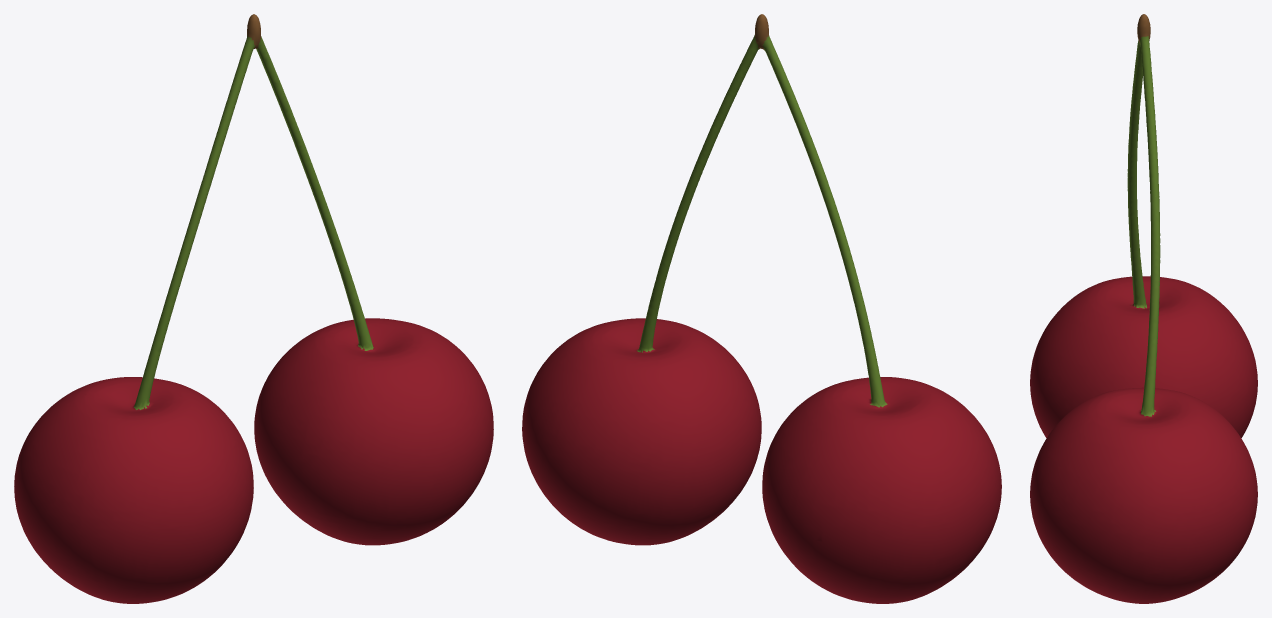
The picture shows the model from 3 angles, left to right: view 1: azimuth 30°, elevation 25°; view 2: azimuth 150°, elevation 25°; view 3: azimuth 270°, elevation 25°; orthographic projection. The views are drawn at different scales.
Visible parts, largest first — view 1: Complete joined-stem cherry pair; view 2: Complete joined-stem cherry pair; view 3: Complete joined-stem cherry pair.
Part boxes in pixels (box(x1,y1,x2,y2)): Complete joined-stem cherry pair: box(14, 14, 493, 603); Complete joined-stem cherry pair: box(522, 14, 1001, 603); Complete joined-stem cherry pair: box(1030, 14, 1257, 603).
Size of the model in its own units: 0.0634 by 0.0743 by 0.0294.
